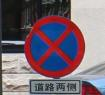No Parking: (26, 15, 86, 80)
